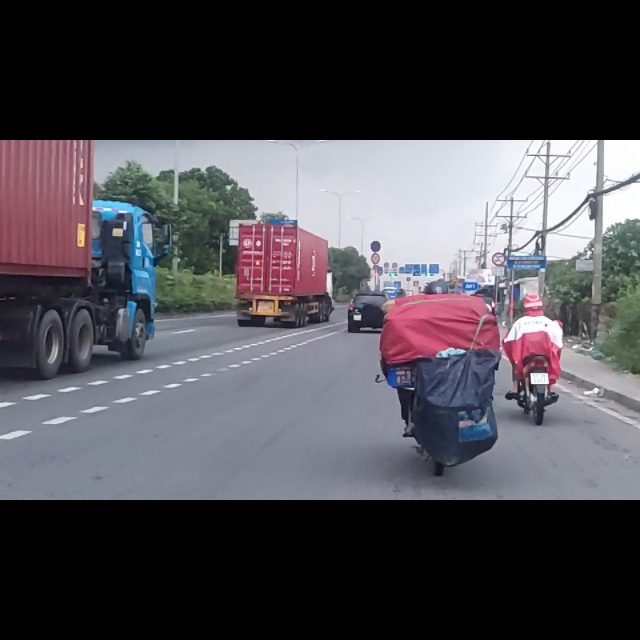bien_nguy_hiem: (492, 200, 506, 225), (370, 178, 382, 199)
